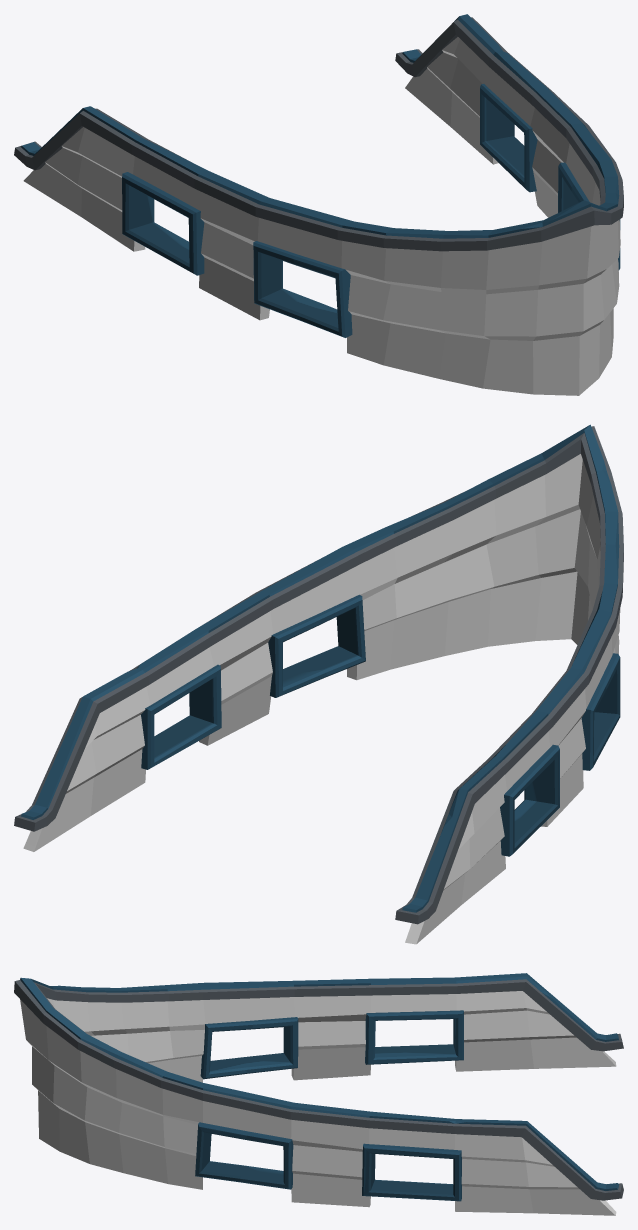
Rendered from SM_Veh_Ship_M_Front_02.fbx.
The picture shows the model from 3 angles, top to bottom: view 1: azimuth 30°, elevation 25°; view 2: azimuth 150°, elevation 25°; view 3: azimuth 270°, elevation 25°; orthographic projection. The views are drawn at different scales.
Visible parts, largest first — view 1: SM_Veh_Ship_M_Front_02; view 2: SM_Veh_Ship_M_Front_02; view 3: SM_Veh_Ship_M_Front_02.
Part boxes in pixels (box(x1,y1,x2,y2)): SM_Veh_Ship_M_Front_02: box(14, 14, 623, 395); SM_Veh_Ship_M_Front_02: box(14, 424, 623, 944); SM_Veh_Ship_M_Front_02: box(14, 973, 623, 1215).
Size of the model in its own units: 683 by 327 by 1113.
